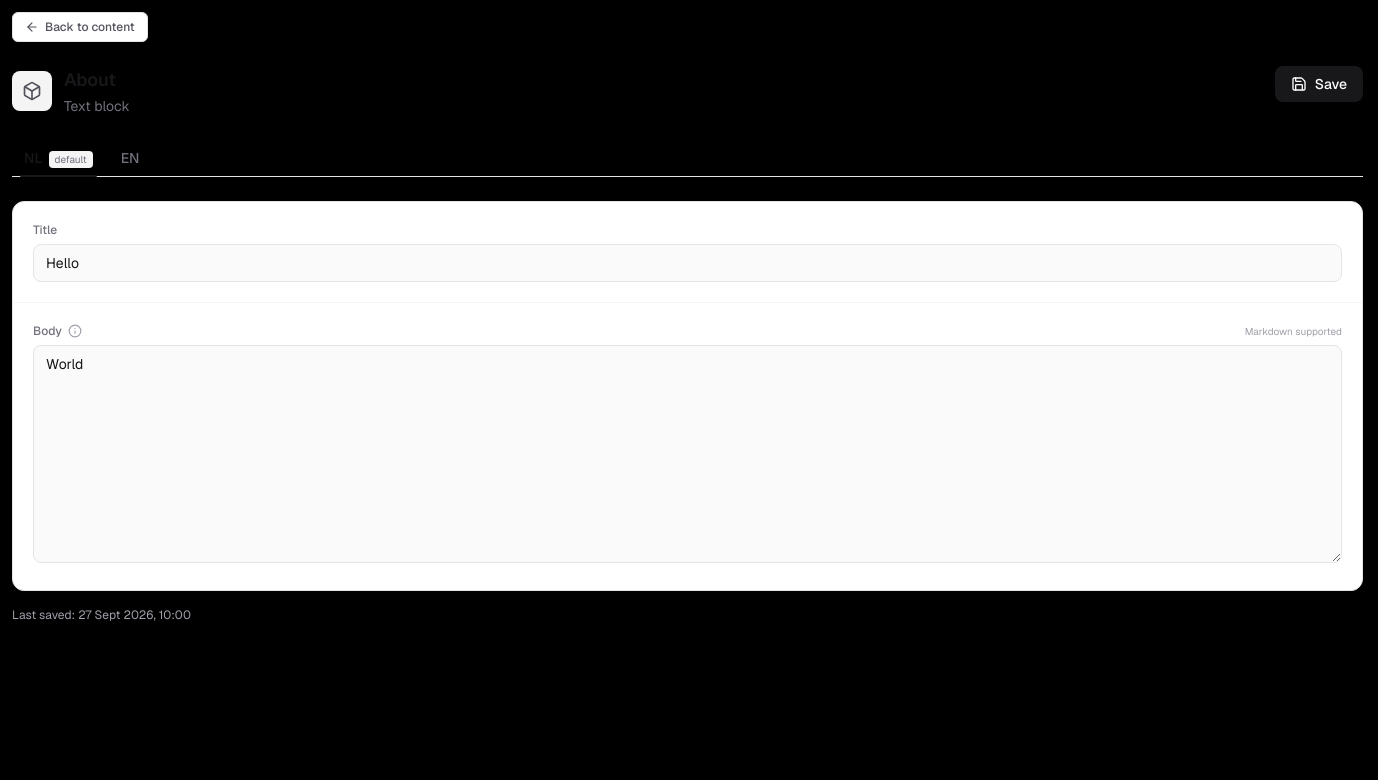
Test case: ServiceEditor save flow › uses the PUT response: no refetch, no remount, clean afterwards
The width and height of the screenshot is (1378, 780).
Step 1. Type " more" into the text box with placeholder "Write content here…" → (688, 454), box x1=33 y1=345 x2=1342 y2=563
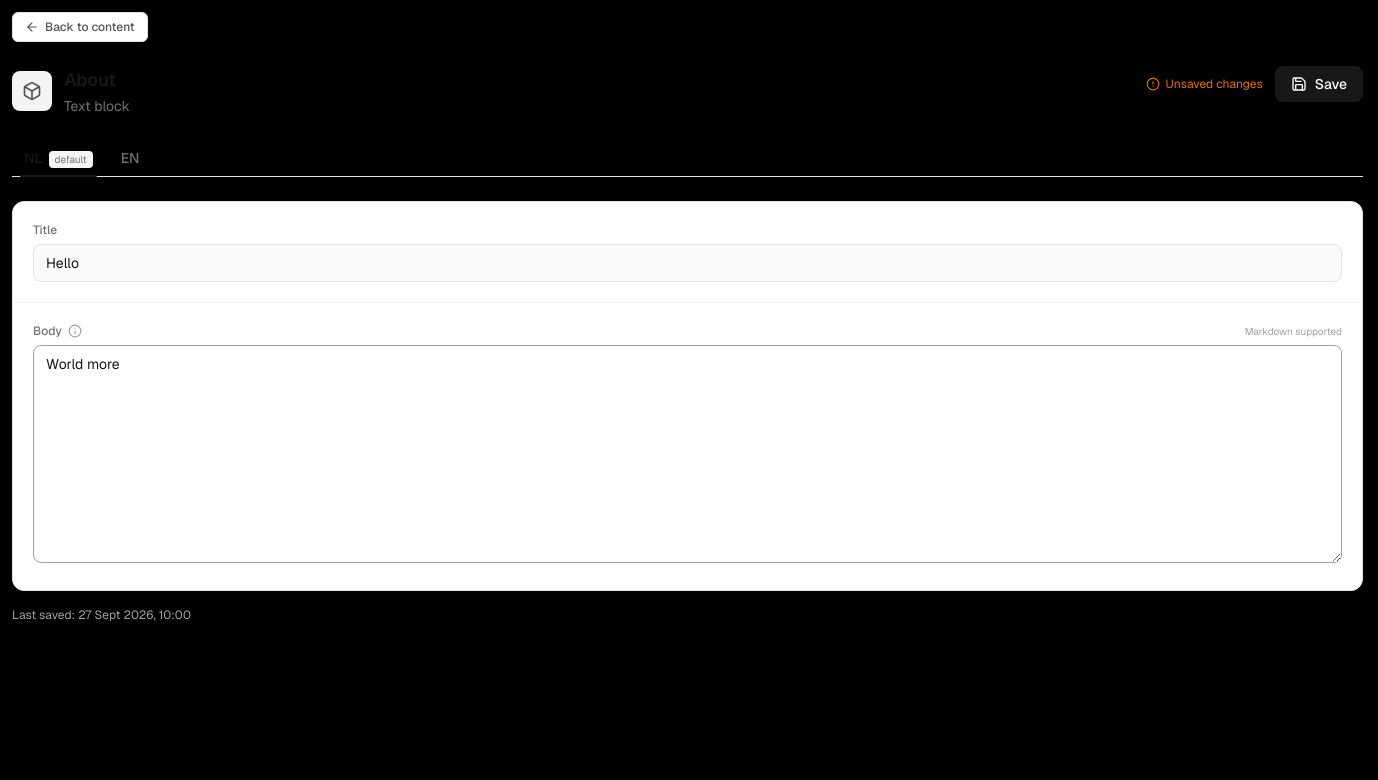
Step 2. Click the button "Save" → click(1319, 84), box x1=1275 y1=66 x2=1363 y2=102
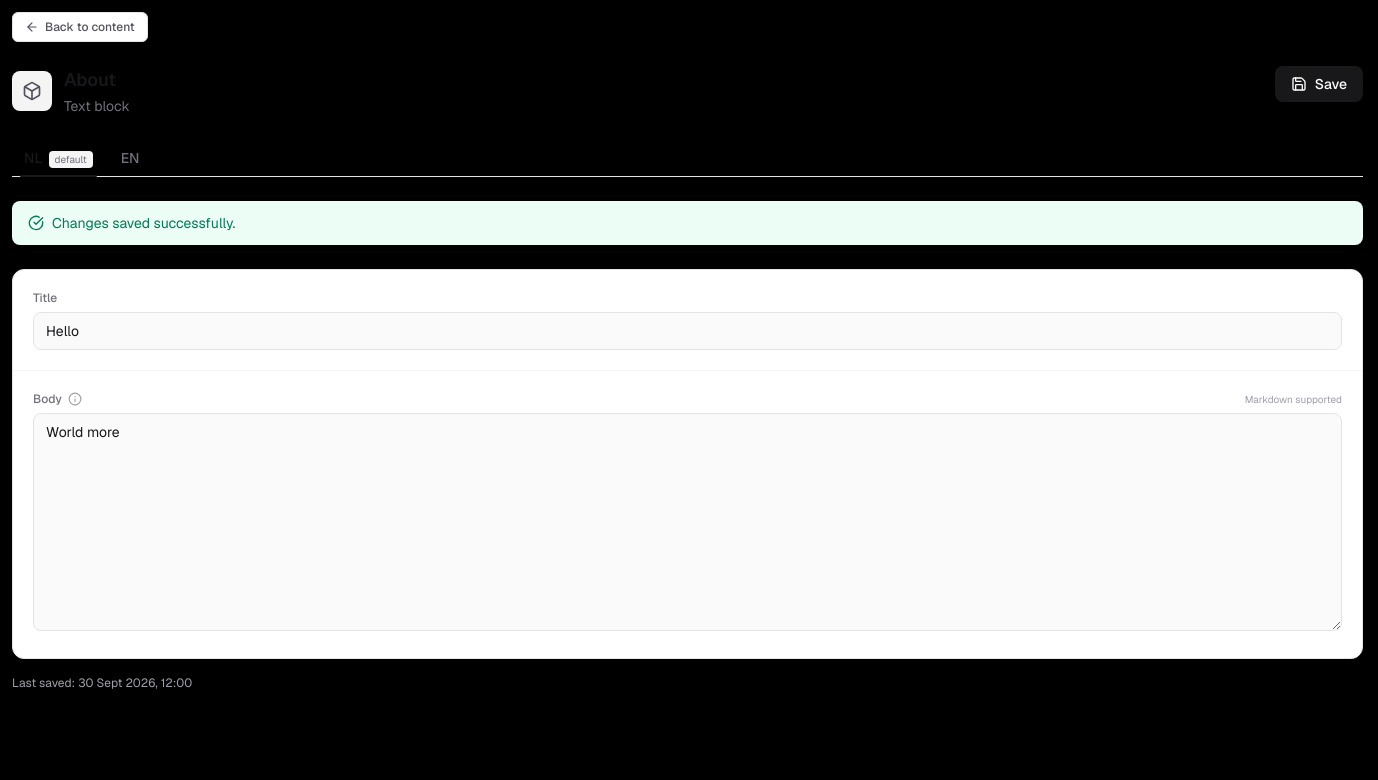
Now the text box with placeholder "Write content here…" holds "World more", box x1=33 y1=413 x2=1342 y2=631
Now the text "Changes saved successfully." is shown, box x1=12 y1=201 x2=1363 y2=245
Now the text "Unsaved changes" is gone
